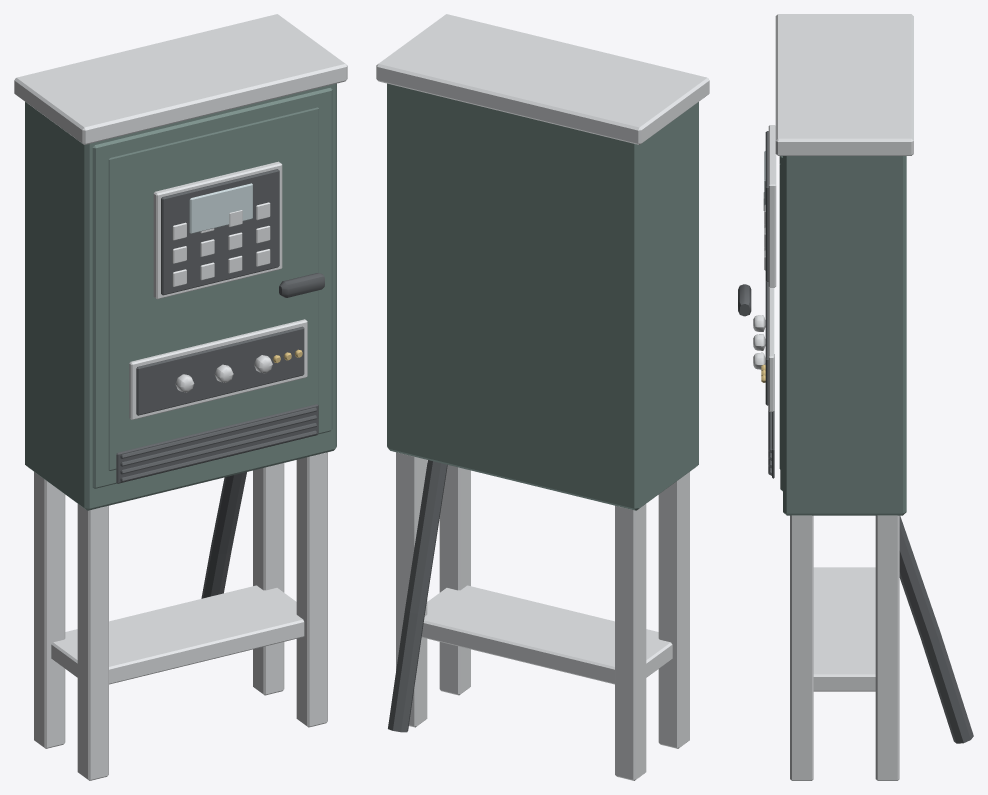
The model's file is bar-pub-and-brewery-taproom-brewery-control-panel-8e9c82ca__18410.glb.
3 renders of one model, left to right at view 1: azimuth 30°, elevation 25°; view 2: azimuth 150°, elevation 25°; view 3: azimuth 270°, elevation 25°, orthographic. The views are drawn at different scales.
Parts seen in each view (by area): view 1: brewery-control-panel, panel-door/carcass, panel-door/dark; view 2: brewery-control-panel; view 3: brewery-control-panel, panel-door/carcass, panel-door/dark.
Boxes of the visible parts, x1,y1,x2,y2 form: brewery-control-panel: (14, 14, 347, 780); panel-door/carcass: (92, 87, 332, 488); panel-door/dark: (279, 273, 324, 297); brewery-control-panel: (376, 14, 709, 780); brewery-control-panel: (753, 14, 973, 780); panel-door/carcass: (779, 156, 782, 491); panel-door/dark: (738, 284, 751, 316).
Bounding box in the file's own units: 0.6299 × 1.5 × 0.4951.
